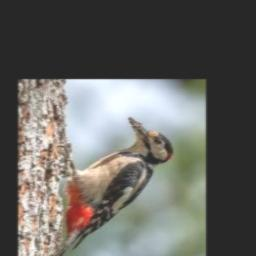Woodpecker: (48, 117, 173, 256)
